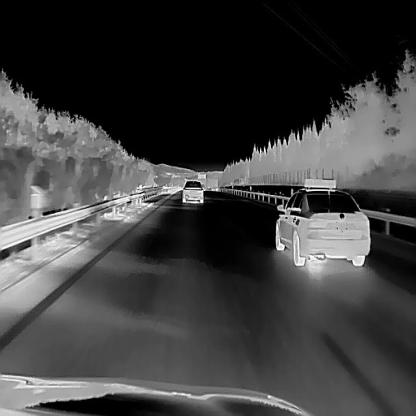car: (274, 177, 370, 266), (181, 178, 203, 202)
